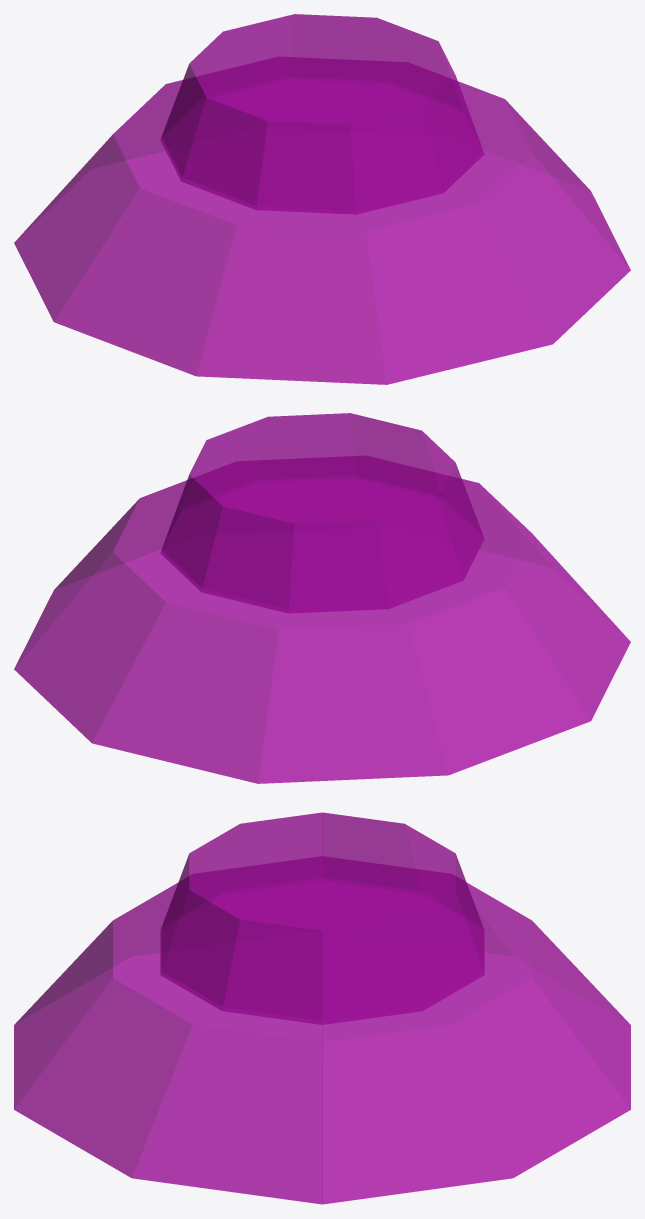
File: SM_Prop_Generator_01_Collision.fbx
The picture shows the model from 3 angles, top to bottom: view 1: azimuth 30°, elevation 25°; view 2: azimuth 150°, elevation 25°; view 3: azimuth 270°, elevation 25°; orthographic projection. The views are drawn at different scales.
Visible parts, largest first — view 1: SM_Prop_Generator_01_Collision; view 2: SM_Prop_Generator_01_Collision; view 3: SM_Prop_Generator_01_Collision.
Boxes of the visible parts, <box> form: SM_Prop_Generator_01_Collision: <box>14,14,630,384</box>; SM_Prop_Generator_01_Collision: <box>14,413,630,783</box>; SM_Prop_Generator_01_Collision: <box>14,812,630,1204</box>.
Size of the model in its own units: 546 by 182 by 519.
